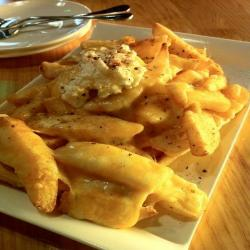fries: (6, 41, 236, 224)
